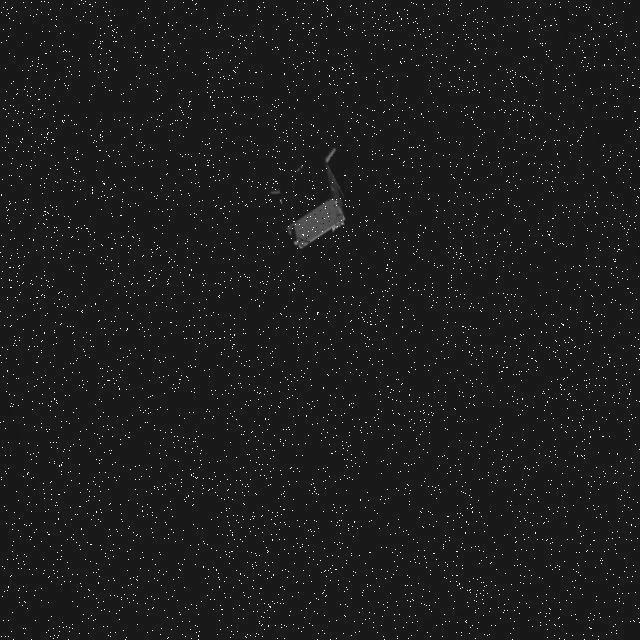medium_debris: (278, 196, 348, 254)
